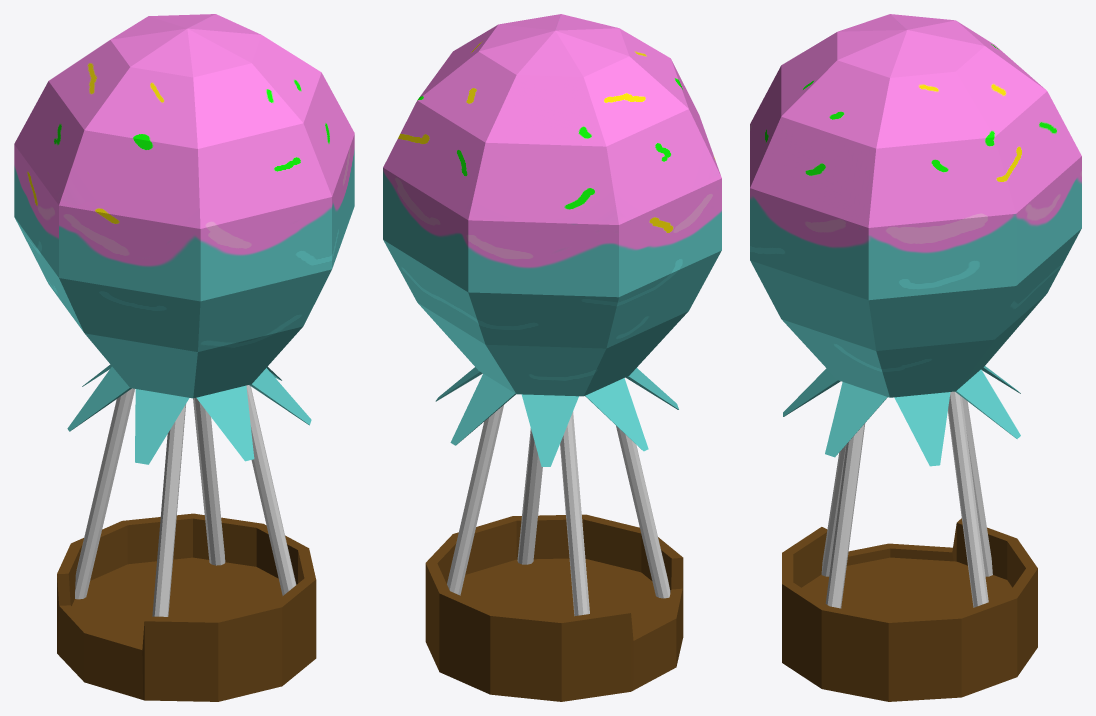
Rendered from HotAirBalloon.fbx.
The picture shows the model from 3 angles, left to right: view 1: azimuth 30°, elevation 25°; view 2: azimuth 150°, elevation 25°; view 3: azimuth 270°, elevation 25°; orthographic projection.
Visible parts, largest first — view 1: Sphere, Cylinder, Cylinder.001; view 2: Sphere, Cylinder, Cylinder.001; view 3: Sphere, Cylinder, Cylinder.001.
Part boxes in pixels (<box>): Sphere: <box>14,14,354,464</box>; Cylinder: <box>57,513,316,701</box>; Cylinder.001: <box>75,385,296,616</box>; Sphere: <box>383,14,721,466</box>; Cylinder: <box>425,514,683,701</box>; Cylinder.001: <box>447,405,670,616</box>; Sphere: <box>750,14,1081,466</box>; Cylinder: <box>782,518,1037,701</box>; Cylinder.001: <box>821,391,992,608</box>.
Bounding box in the file's own units: 211 × 422 × 206.
2 materials, 1 textured.
